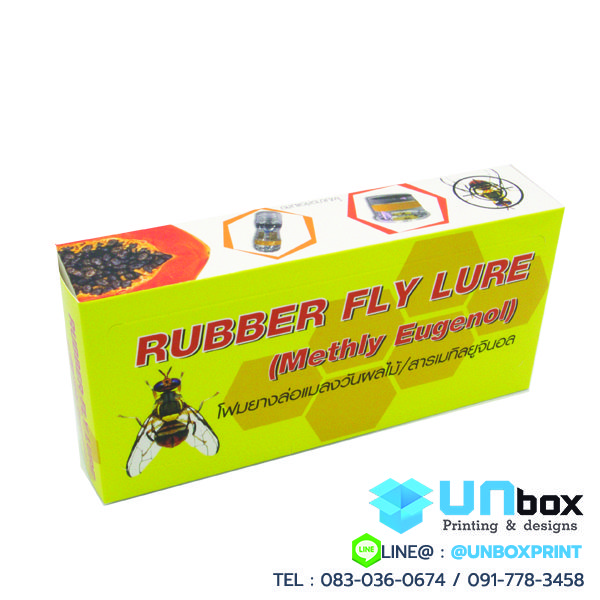Insecticide: (53, 156, 571, 518)
